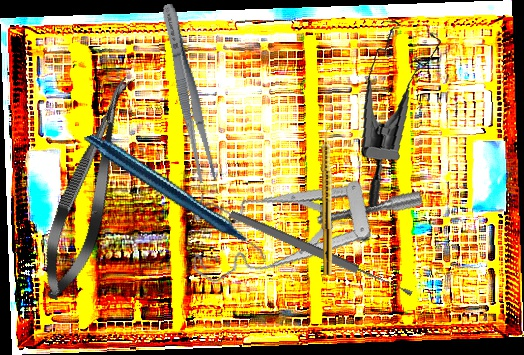Dressing Forceps: (155, 1, 221, 185)
Handpiece: (83, 92, 268, 307), (320, 124, 336, 276)
Micro Scissor: (30, 68, 148, 307)
Speculum: (180, 146, 426, 321), (347, 15, 458, 208)
Surgical Spoon: (228, 208, 414, 300)
